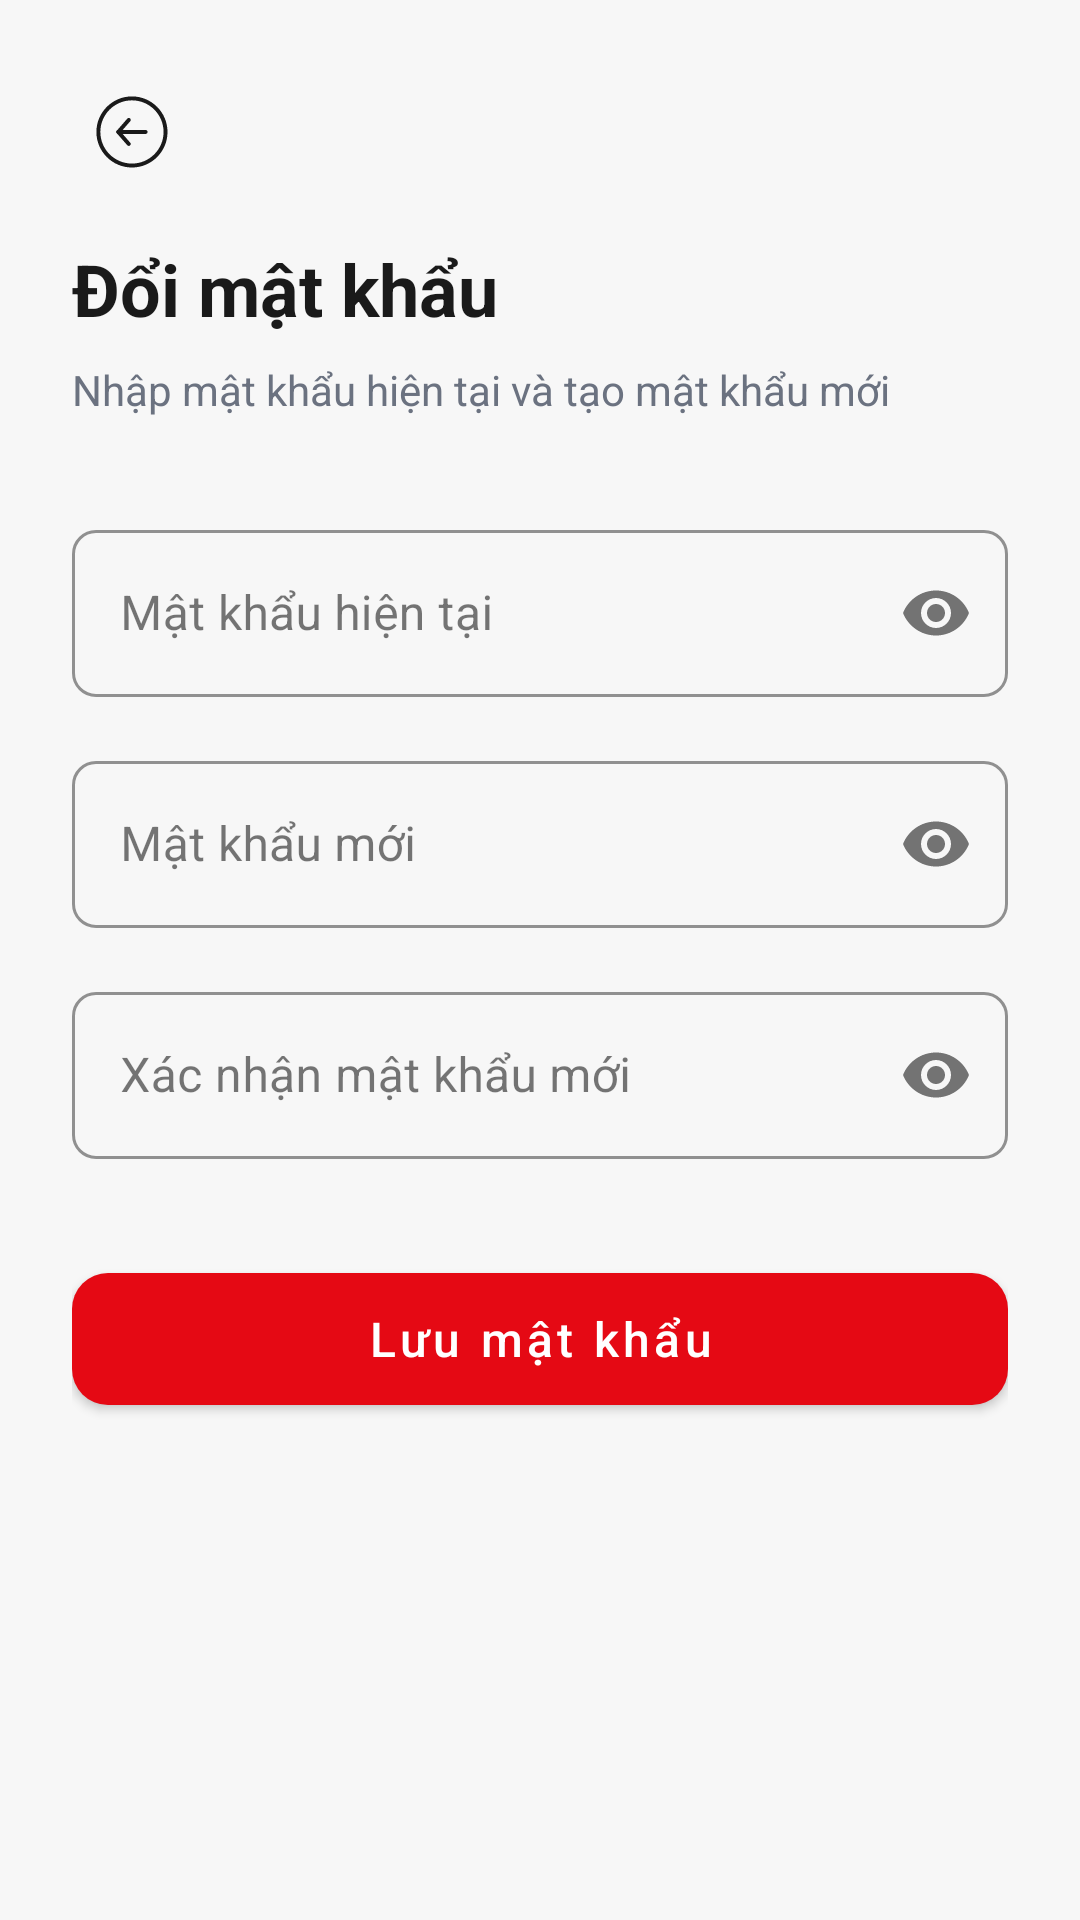

Icon click points for this 1080 x 1920 phone screenshot, format (x=x, y=y):
Quay lại: (x=132, y=132)
